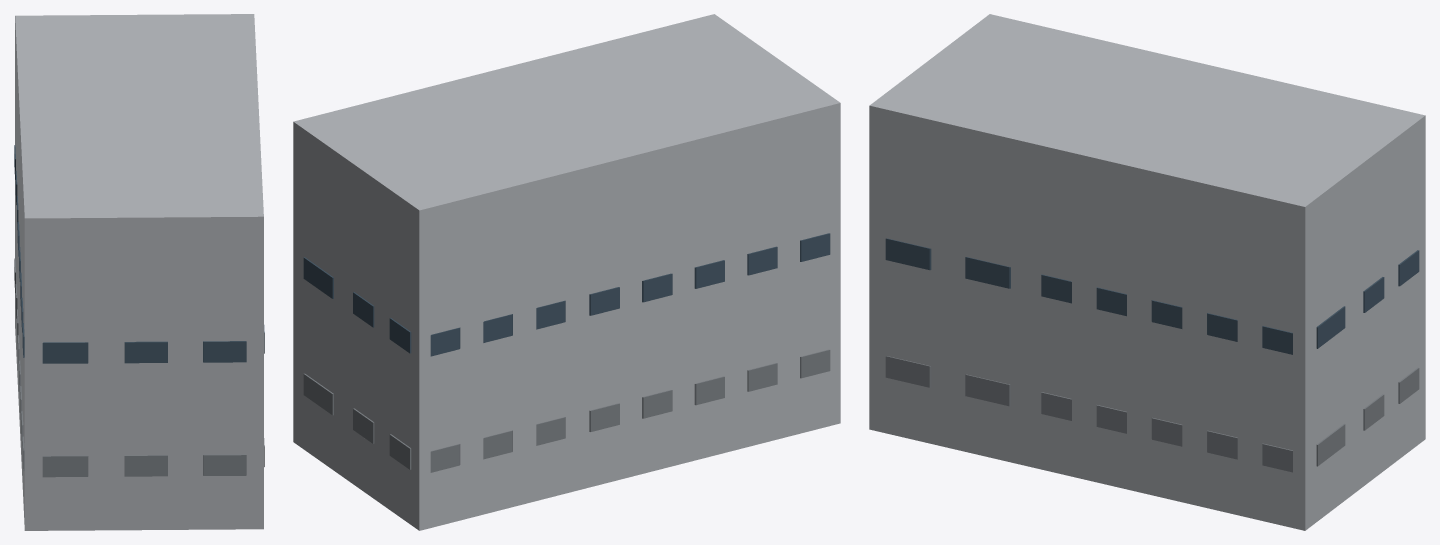
The model's file is doitt-460555__lod_0.glb.
3 renders of one model, left to right at view 1: azimuth 30°, elevation 25°; view 2: azimuth 150°, elevation 25°; view 3: azimuth 270°, elevation 25°, orthographic. The views are drawn at different scales.
Parts seen in each view (by area): view 1: doitt:460555__lod_0__estimated_mass, doitt:460555__lod_0__facade_03_01_00, doitt:460555__lod_0__facade_03_00_00, doitt:460555__lod_0__facade_02_01_01, doitt:460555__lod_0__facade_02_00_00, doitt:460555__lod_0__facade_02_00_01, doitt:460555__lod_0__facade_02_01_00; view 2: doitt:460555__lod_0__estimated_mass, doitt:460555__lod_0__facade_07_00_00, doitt:460555__lod_0__facade_07_01_00, doitt:460555__lod_0__facade_04_01_03, doitt:460555__lod_0__facade_04_00_02, doitt:460555__lod_0__facade_04_00_00, doitt:460555__lod_0__facade_04_00_01, doitt:460555__lod_0__facade_04_00_03, doitt:460555__lod_0__facade_04_00_04, doitt:460555__lod_0__facade_04_01_01, doitt:460555__lod_0__facade_04_01_04, doitt:460555__lod_0__facade_04_01_00 (+7 smaller); view 3: doitt:460555__lod_0__estimated_mass, doitt:460555__lod_0__facade_01_01_01, doitt:460555__lod_0__facade_01_00_01, doitt:460555__lod_0__facade_01_00_00, doitt:460555__lod_0__facade_01_01_00, doitt:460555__lod_0__facade_00_01_02, doitt:460555__lod_0__facade_00_00_02, doitt:460555__lod_0__facade_00_00_01, doitt:460555__lod_0__facade_00_00_00, doitt:460555__lod_0__facade_00_00_03, doitt:460555__lod_0__facade_00_00_04, doitt:460555__lod_0__facade_00_01_00 (+5 smaller).
Boxes of the visible parts, bbox=[...] form: doitt:460555__lod_0__estimated_mass: bbox=[15, 14, 263, 530]; doitt:460555__lod_0__facade_03_01_00: bbox=[42, 342, 88, 363]; doitt:460555__lod_0__facade_03_00_00: bbox=[42, 455, 88, 477]; doitt:460555__lod_0__facade_02_01_01: bbox=[124, 341, 167, 363]; doitt:460555__lod_0__facade_02_00_00: bbox=[203, 454, 246, 475]; doitt:460555__lod_0__facade_02_00_01: bbox=[124, 455, 167, 476]; doitt:460555__lod_0__facade_02_01_00: bbox=[203, 341, 246, 362]; doitt:460555__lod_0__estimated_mass: bbox=[293, 14, 840, 530]; doitt:460555__lod_0__facade_07_00_00: bbox=[303, 373, 333, 415]; doitt:460555__lod_0__facade_07_01_00: bbox=[303, 257, 333, 298]; doitt:460555__lod_0__facade_04_01_03: bbox=[642, 273, 672, 302]; doitt:460555__lod_0__facade_04_00_02: bbox=[694, 376, 724, 405]; doitt:460555__lod_0__facade_04_00_00: bbox=[800, 349, 830, 378]; doitt:460555__lod_0__facade_04_00_01: bbox=[747, 363, 777, 391]; doitt:460555__lod_0__facade_04_00_03: bbox=[642, 390, 672, 418]; doitt:460555__lod_0__facade_04_00_04: bbox=[589, 403, 619, 431]; doitt:460555__lod_0__facade_04_01_01: bbox=[747, 246, 777, 275]; doitt:460555__lod_0__facade_04_01_04: bbox=[589, 287, 619, 315]; doitt:460555__lod_0__facade_04_01_00: bbox=[800, 233, 830, 261]; doitt:460555__lod_0__estimated_mass: bbox=[869, 14, 1425, 530]; doitt:460555__lod_0__facade_01_01_01: bbox=[885, 238, 931, 270]; doitt:460555__lod_0__facade_01_00_01: bbox=[885, 356, 931, 387]; doitt:460555__lod_0__facade_01_00_00: bbox=[965, 374, 1010, 406]; doitt:460555__lod_0__facade_01_01_00: bbox=[965, 257, 1010, 288]; doitt:460555__lod_0__facade_00_01_02: bbox=[1151, 300, 1182, 328]; doitt:460555__lod_0__facade_00_00_02: bbox=[1151, 417, 1182, 446]; doitt:460555__lod_0__facade_00_00_01: bbox=[1207, 430, 1237, 459]; doitt:460555__lod_0__facade_00_00_00: bbox=[1262, 443, 1292, 472]; doitt:460555__lod_0__facade_00_00_03: bbox=[1096, 405, 1126, 433]; doitt:460555__lod_0__facade_00_00_04: bbox=[1041, 392, 1071, 420]; doitt:460555__lod_0__facade_00_01_00: bbox=[1262, 326, 1292, 354].
Size of the model in its own units: 27.98 by 21.89 by 34.06.
